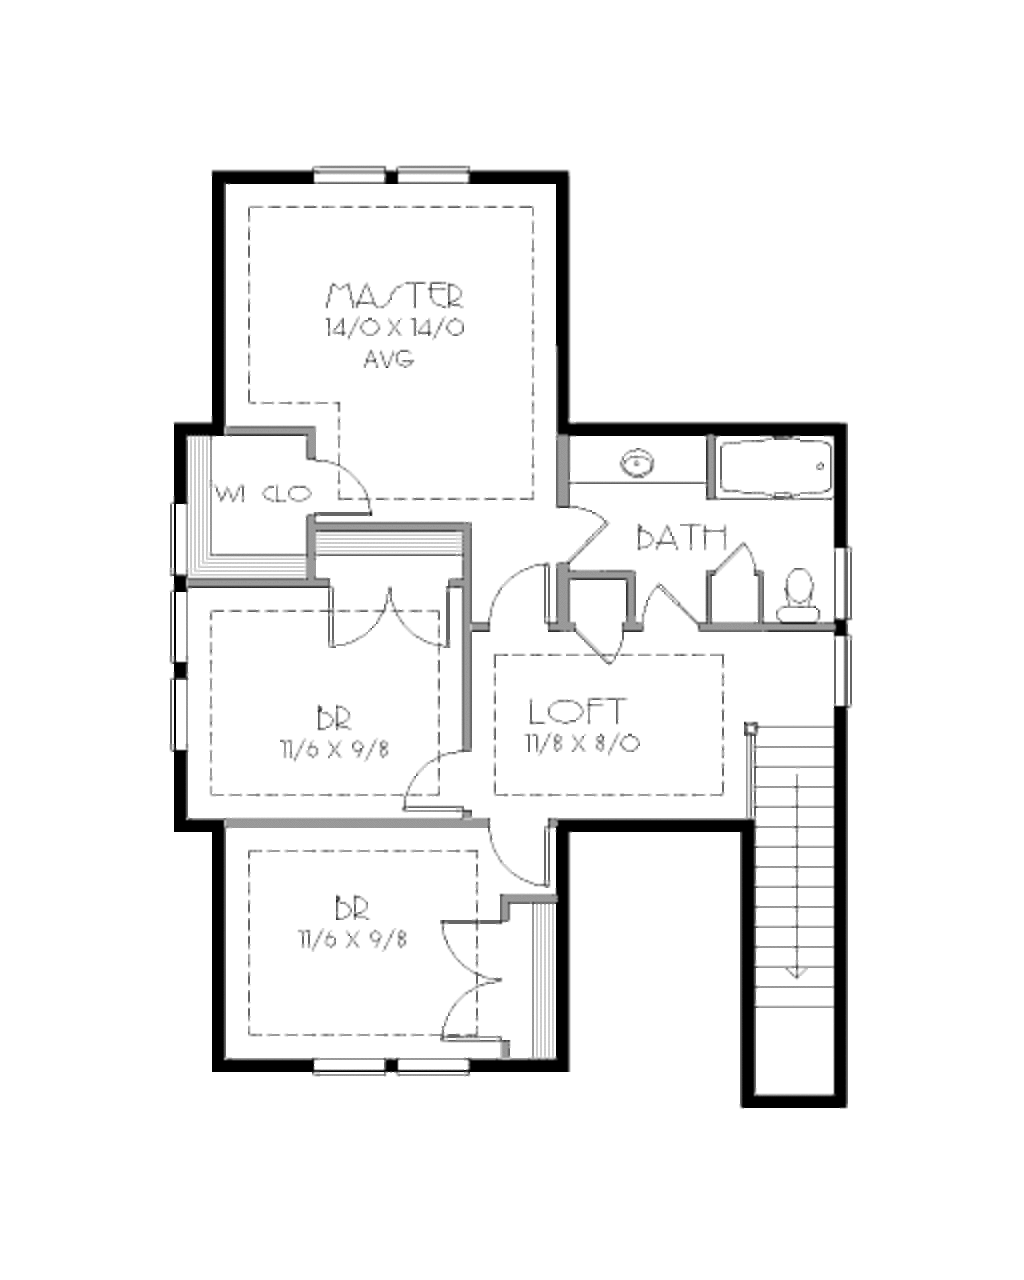door: (432, 917, 520, 1049), (326, 582, 451, 649), (300, 449, 393, 521), (399, 741, 481, 817), (491, 555, 555, 647), (483, 810, 555, 882), (642, 571, 708, 639), (559, 504, 620, 568), (577, 625, 624, 665)
large_sink: (771, 555, 822, 627)
small_sink: (563, 425, 697, 484)
stairs: (736, 721, 836, 1043)
tub: (709, 425, 842, 506)
window: (163, 494, 195, 596), (167, 590, 193, 670), (174, 676, 193, 751), (400, 1057, 469, 1076), (316, 1053, 393, 1070)
